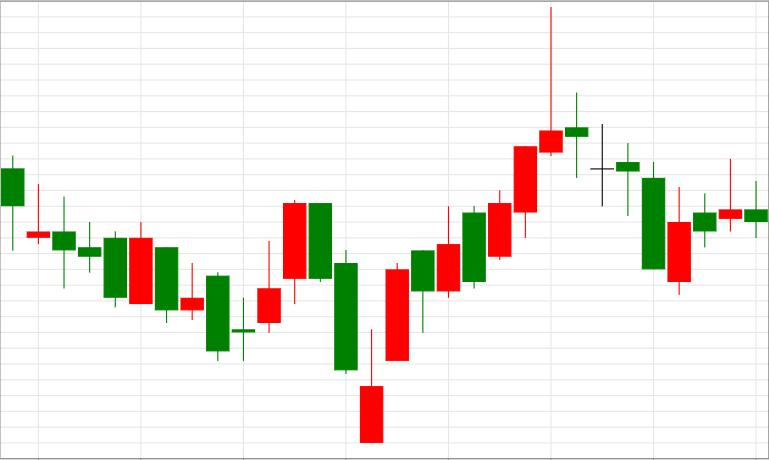shooting_star_fall: (361, 8, 562, 443)
